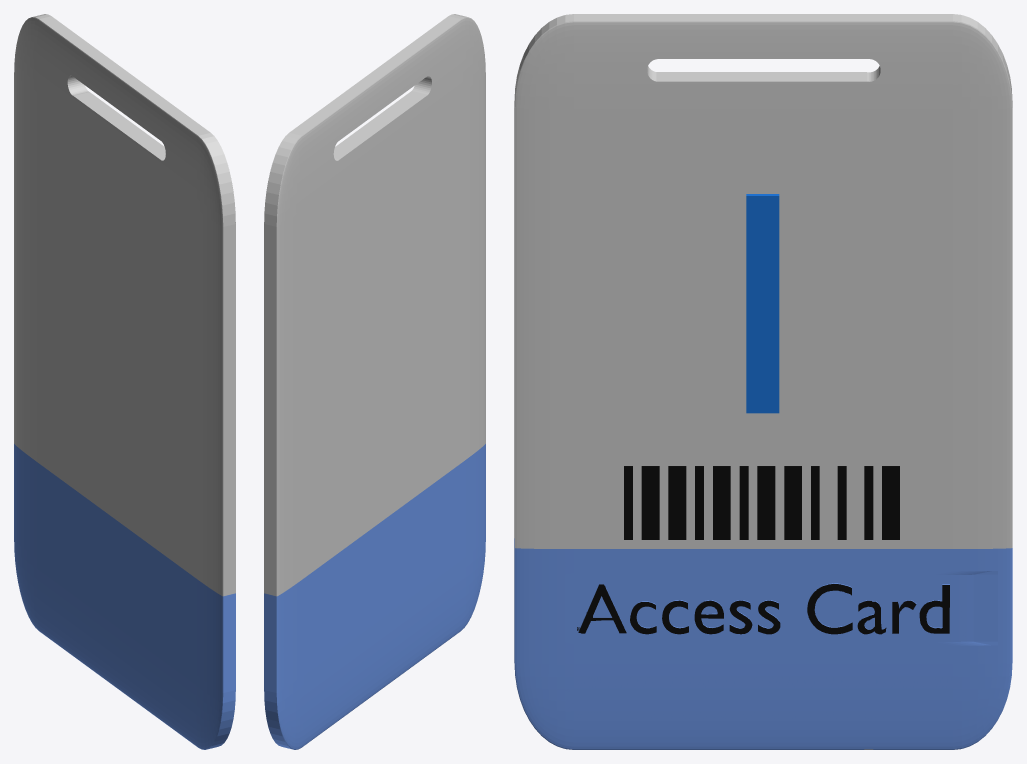
The model's file is singlekeycard.glb.
3 renders of one model, left to right at view 1: azimuth 30°, elevation 25°; view 2: azimuth 150°, elevation 25°; view 3: azimuth 270°, elevation 25°, orthographic. The views are drawn at different scales.
Visible parts, largest first — view 1: KeyCard; view 2: KeyCard; view 3: KeyCard.
Part boxes in pixels (box(x1,y1,x2,y2)): KeyCard: box(14, 14, 235, 749); KeyCard: box(264, 14, 485, 749); KeyCard: box(514, 14, 1012, 749).
Size of the model in its own units: 0.1789 by 4.61 by 2.85.
